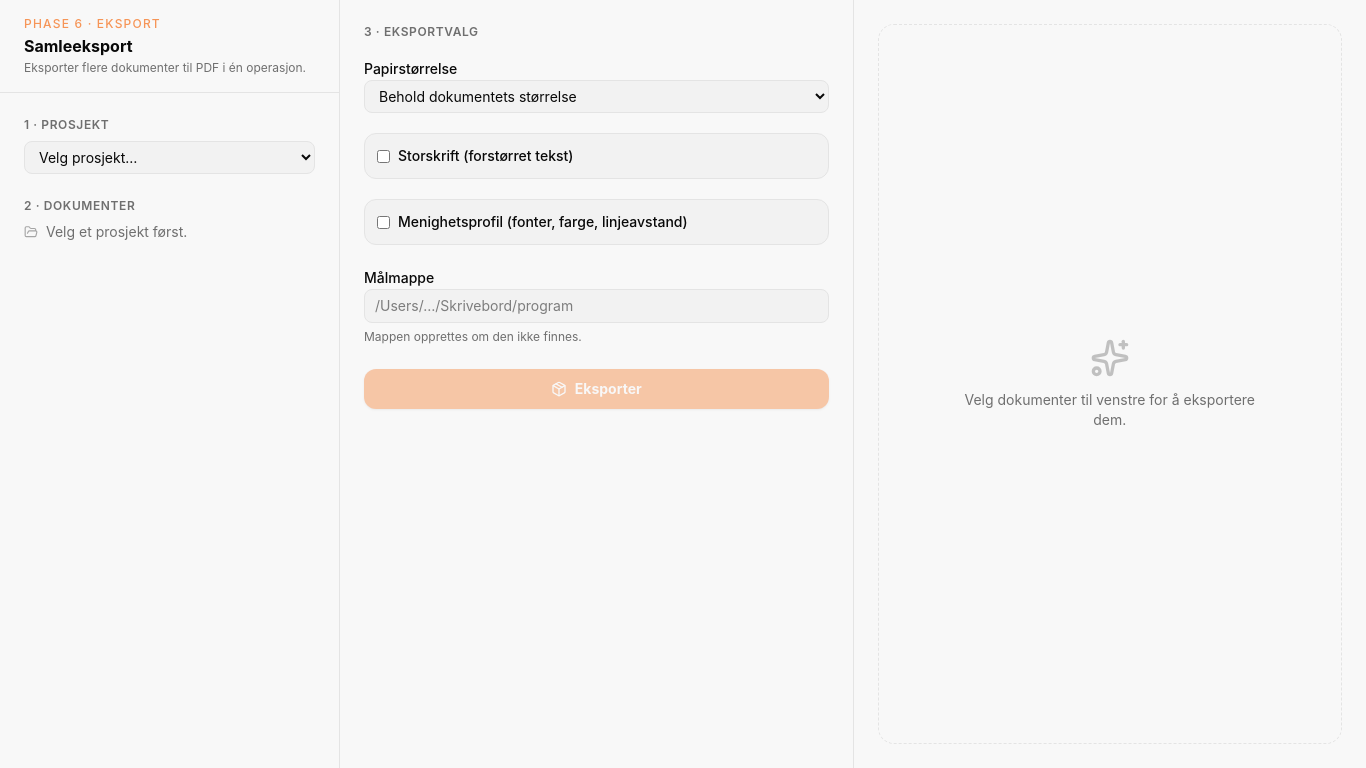
Scenario: ExportPage › shows the success summary after a batch export
The image size is (1366, 768).
Select "Sommer 2026" in the dropdown named "Velg prosjekt": [170, 158] box [24,141,315,174]
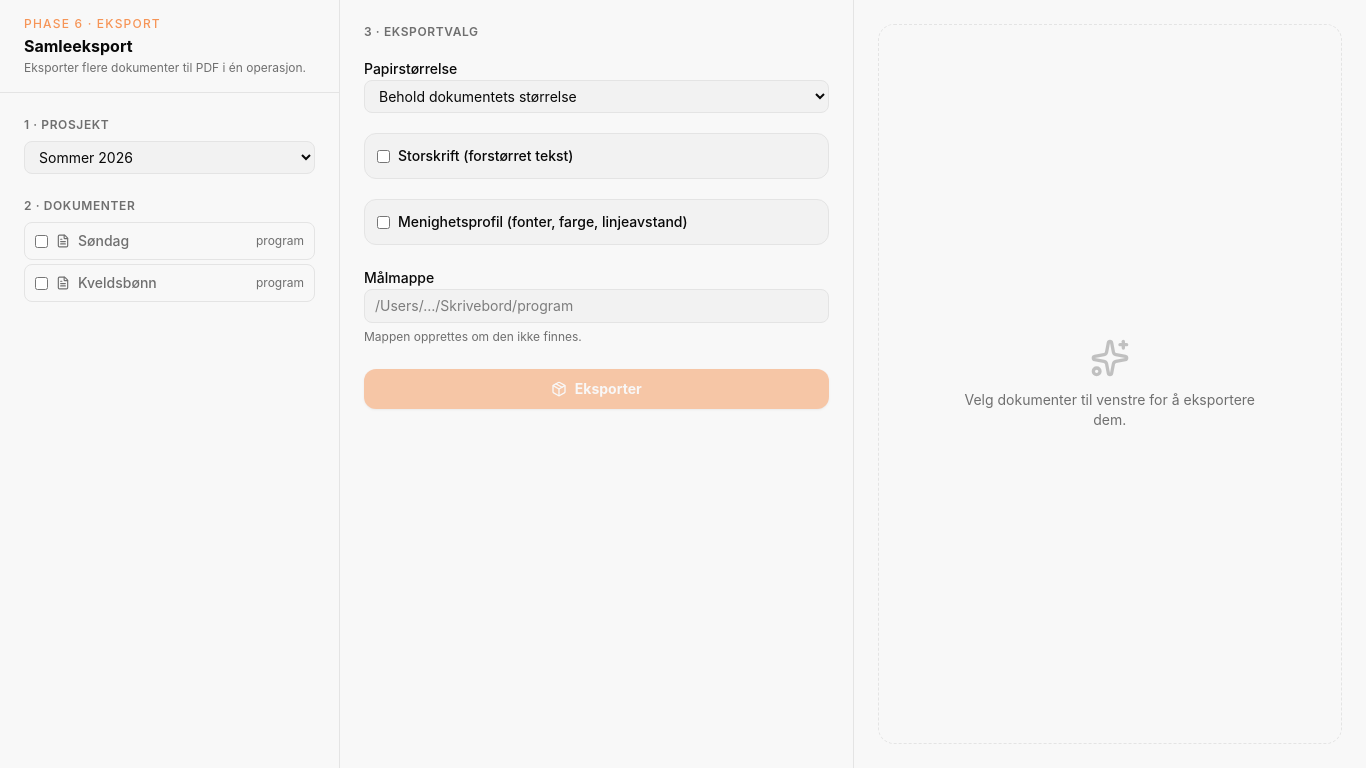
Now the checkbox named "Velg Søndag" is shown
Click the checkbox named "Velg Søndag": [42, 241] box [35,234,48,248]
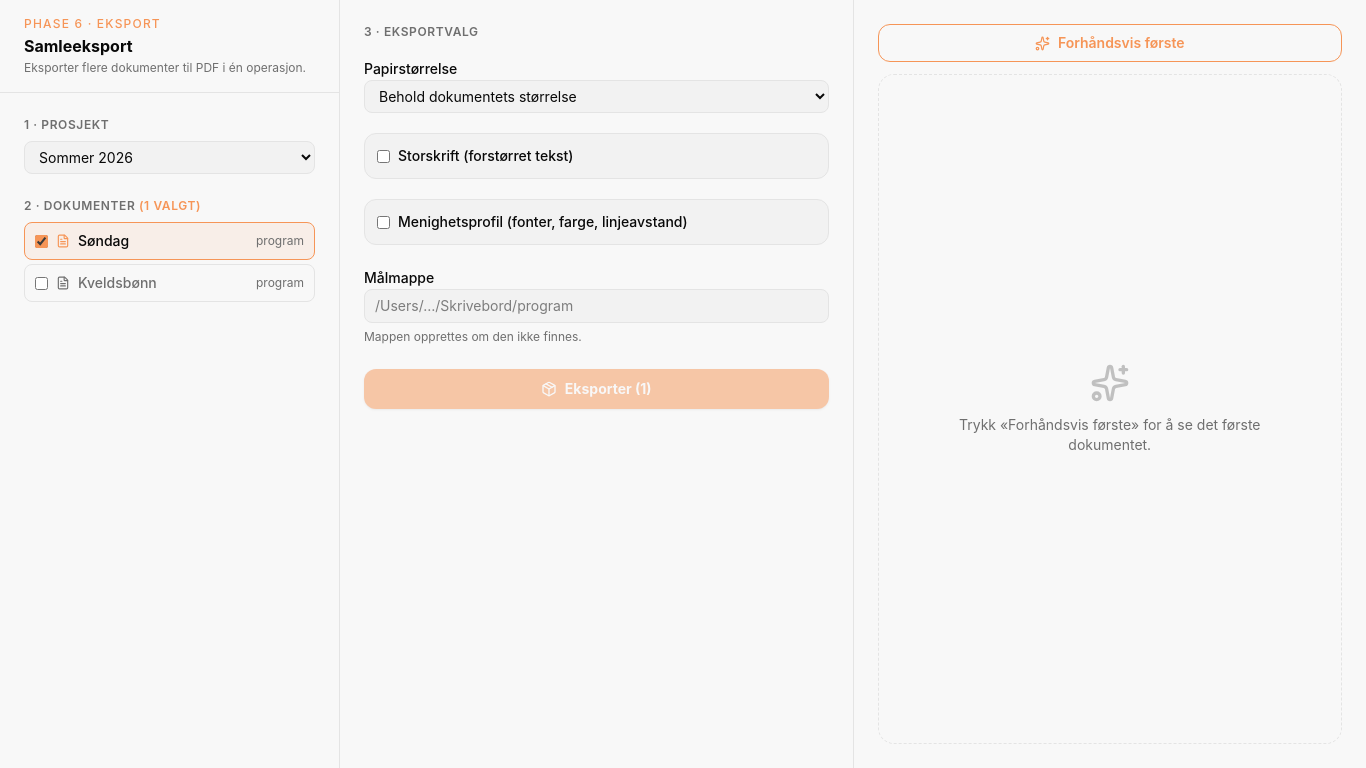
In the field labelled "Målmappe": [596, 306] box [364,289,828,323], type "/tmp/out"
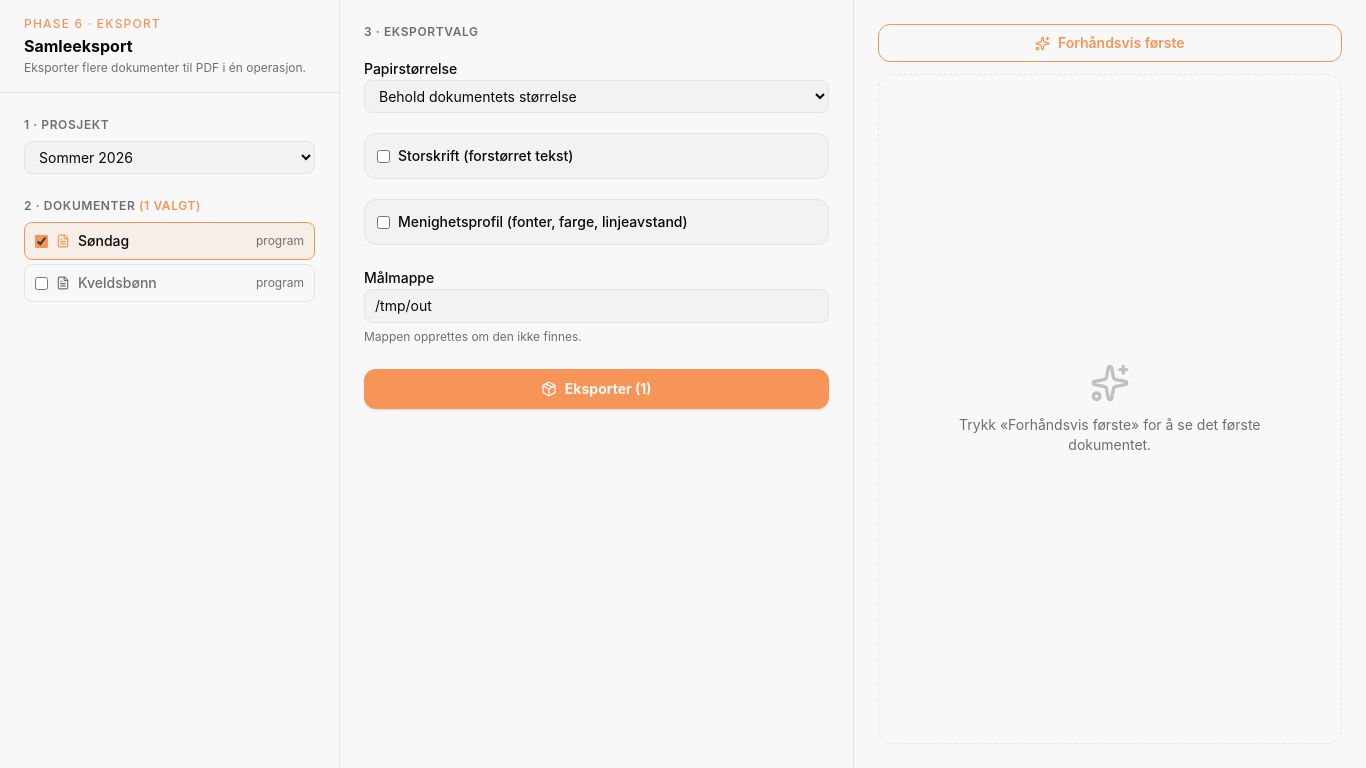
Click the button "Eksporter (1)": [596, 389] box [364,369,828,409]
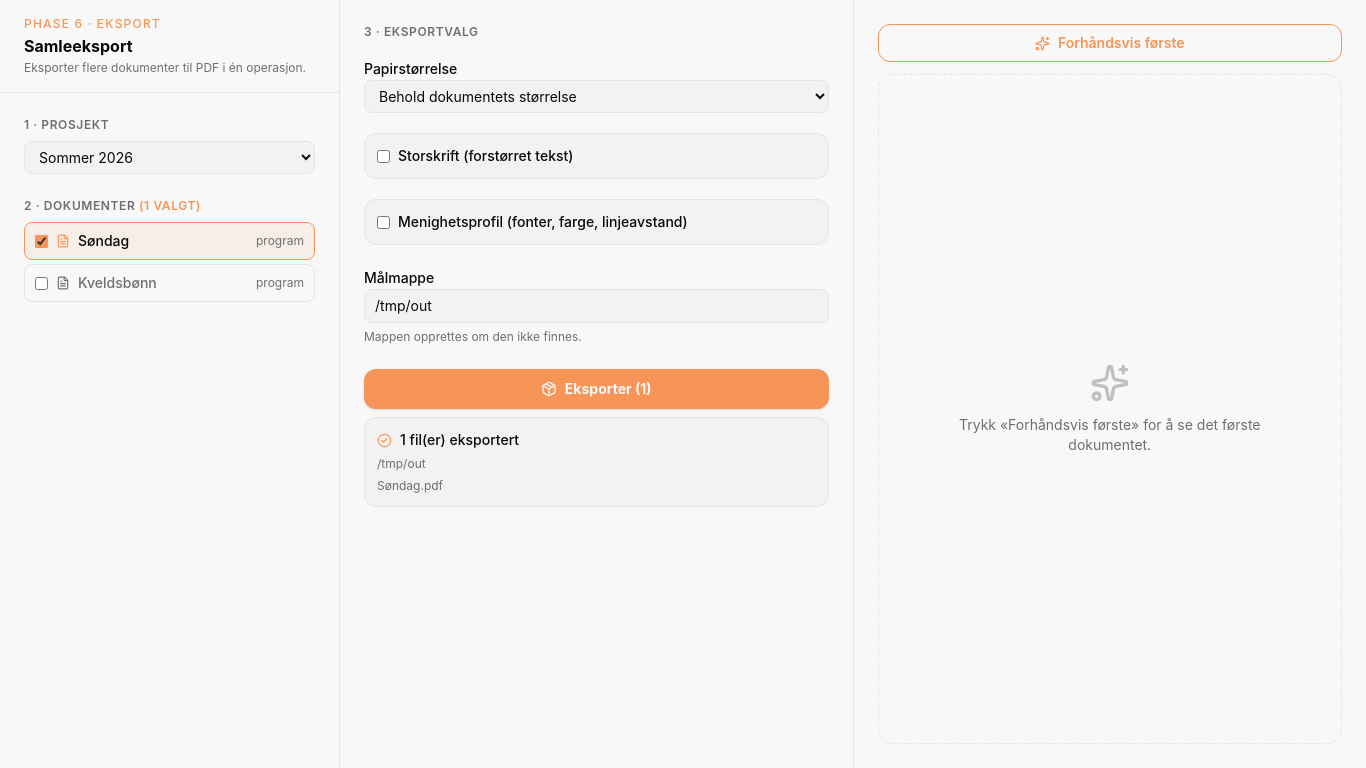
Now the text "1 fil(er) eksportert" is shown, box [377,431,519,448]
Now the text "/tmp/out" is shown, box [377,456,426,471]
Now the list item "Søndag.pdf" is shown, box [377,478,443,493]
